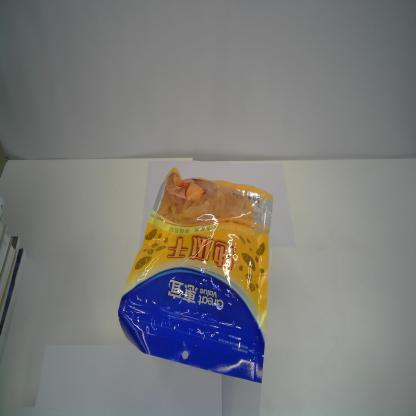Dried Fruit: (118, 167, 274, 382)
